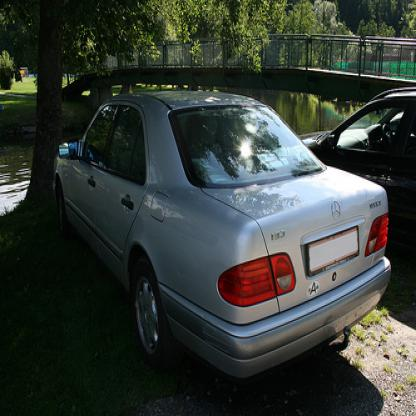car: (53, 88, 397, 382), (301, 85, 416, 273)
